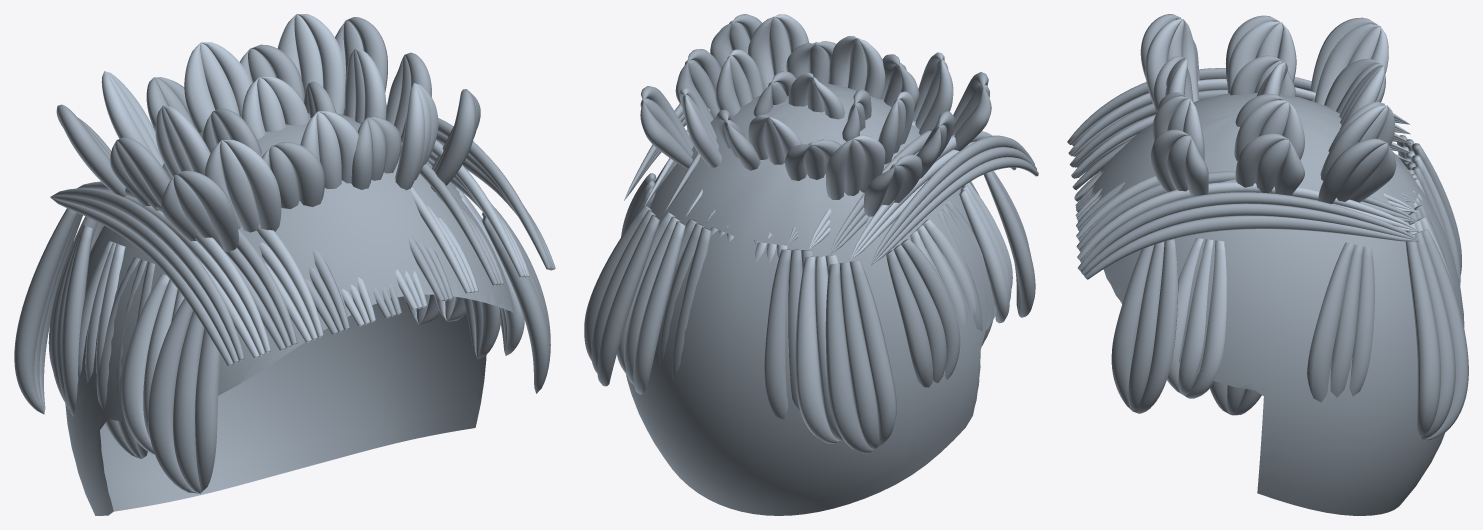
The picture shows the model from 3 angles, left to right: view 1: azimuth 30°, elevation 25°; view 2: azimuth 150°, elevation 25°; view 3: azimuth 270°, elevation 25°; orthographic projection. The views are drawn at different scales.
Visible parts, largest first — view 1: CrownHair_male_ref19, SideHair_-1_0_Strand2, BackHair_00_Strand0, SideHair_-1_0_Strand1, SideHair_-1_1_Strand2, FrontHair_Slick_00_Strand2, SideHair_-1_0_Strand0, SideHair_-1_4_Strand0, SideHair_1_0_Strand2, FrontHair_Slick_00_Strand1, FrontHair_Slick_00_Strand0, CrownHair_Spike_0_1_Strand2 (+67 smaller); view 2: CrownHair_male_ref19, BackHair_00_Strand2, BackHair_01_Strand2, BackHair_00_Strand1, BackHair_00_Strand0, BackHair_02_Strand2, BackHair_07_Strand0, BackHair_08_Strand0, SideHair_-1_4_Strand2, SideHair_-1_0_Strand2, SideHair_-1_4_Strand0, SideHair_-1_4_Strand1 (+59 smaller); view 3: CrownHair_male_ref19, BackHair_08_Strand2, FrontHair_Slick_12_Strand2, FrontHair_Slick_12_Strand0, FrontHair_Slick_12_Strand1, SideHair_1_0_Strand0, SideHair_1_4_Strand2, SideHair_1_0_Strand1, SideHair_1_0_Strand2, BackHair_08_Strand0, SideHair_1_1_Strand0, BackHair_08_Strand1 (+44 smaller).
Boxes of the visible parts, bbox=[...] form: CrownHair_male_ref19: bbox=[65, 113, 515, 515]; SideHair_-1_0_Strand2: bbox=[148, 298, 199, 493]; BackHair_00_Strand0: bbox=[14, 208, 78, 414]; SideHair_-1_0_Strand1: bbox=[173, 311, 204, 493]; SideHair_-1_1_Strand2: bbox=[121, 274, 169, 454]; FrontHair_Slick_00_Strand2: bbox=[50, 188, 244, 360]; SideHair_-1_0_Strand0: bbox=[195, 328, 220, 493]; SideHair_-1_4_Strand0: bbox=[61, 225, 93, 416]; SideHair_1_0_Strand2: bbox=[481, 216, 550, 393]; FrontHair_Slick_00_Strand1: bbox=[50, 195, 238, 363]; FrontHair_Slick_00_Strand0: bbox=[50, 197, 233, 366]; CrownHair_Spike_0_1_Strand2: bbox=[222, 139, 281, 231]; CrownHair_male_ref19: bbox=[626, 83, 996, 515]; BackHair_00_Strand2: bbox=[825, 263, 873, 453]; BackHair_01_Strand2: bbox=[795, 256, 839, 443]; BackHair_00_Strand1: bbox=[839, 262, 879, 449]; BackHair_00_Strand0: bbox=[849, 260, 896, 446]; BackHair_02_Strand2: bbox=[764, 249, 791, 419]; BackHair_07_Strand0: bbox=[633, 221, 685, 394]; BackHair_08_Strand0: bbox=[597, 215, 659, 386]; SideHair_-1_4_Strand2: bbox=[886, 250, 932, 387]; SideHair_-1_0_Strand2: bbox=[983, 171, 1035, 317]; SideHair_-1_4_Strand0: bbox=[900, 239, 960, 379]; SideHair_-1_4_Strand1: bbox=[893, 244, 946, 382]; CrownHair_male_ref19: bbox=[1090, 93, 1464, 515]; BackHair_08_Strand2: bbox=[1405, 234, 1440, 439]; FrontHair_Slick_12_Strand2: bbox=[1084, 215, 1419, 279]; FrontHair_Slick_12_Strand0: bbox=[1078, 192, 1419, 271]; FrontHair_Slick_12_Strand1: bbox=[1081, 203, 1419, 275]; SideHair_1_0_Strand0: bbox=[1133, 239, 1178, 413]; SideHair_1_4_Strand2: bbox=[1307, 242, 1354, 402]; SideHair_1_0_Strand1: bbox=[1128, 241, 1164, 411]; SideHair_1_0_Strand2: bbox=[1111, 245, 1154, 410]; BackHair_08_Strand0: bbox=[1419, 229, 1468, 440]; SideHair_1_1_Strand0: bbox=[1184, 240, 1226, 398]; BackHair_08_Strand1: bbox=[1412, 232, 1455, 439].
Bounding box in the file's own units: 0.7248 × 0.8217 × 0.7035.
